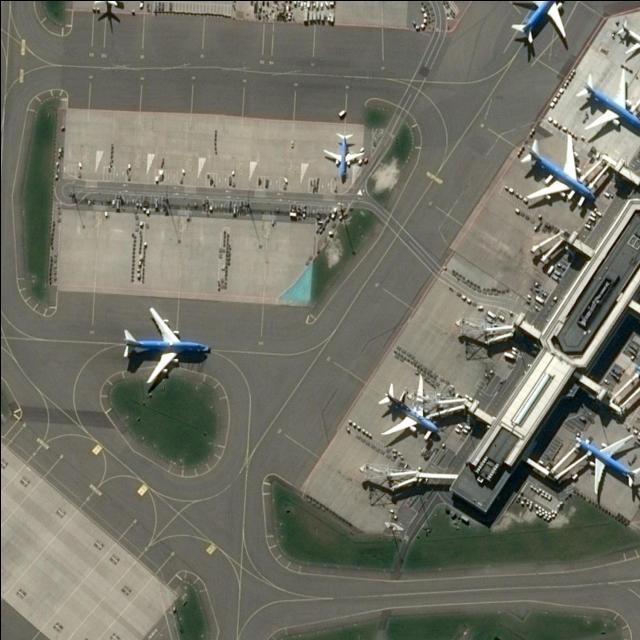Aircraft: (120, 306, 211, 388), (518, 132, 600, 205), (376, 374, 444, 442), (575, 432, 640, 500), (574, 72, 640, 136), (508, 0, 578, 47), (323, 131, 365, 184), (617, 19, 640, 59)
